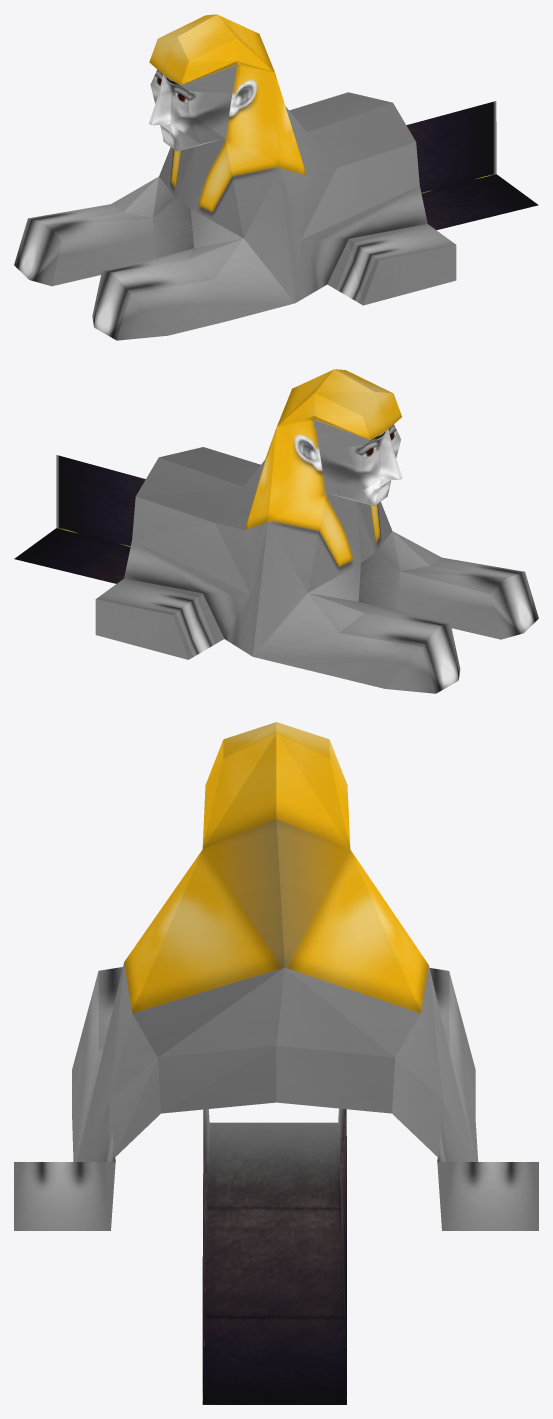
The model's file is SPHINX2.glb.
3 views of the same model, one above another, from view 1: azimuth 30°, elevation 25°; view 2: azimuth 150°, elevation 25°; view 3: azimuth 270°, elevation 25° (orthographic). The views are drawn at different scales.
Parts seen in each view (by area): view 1: SPHINX2; view 2: SPHINX2; view 3: SPHINX2.
Part boxes in pixels (<box>): SPHINX2: <box>14,14,538,340</box>; SPHINX2: <box>14,369,538,693</box>; SPHINX2: <box>14,722,538,1404</box>.
Size of the model in its own units: 3275 by 1725 by 1916.
2 materials, 2 textured.
